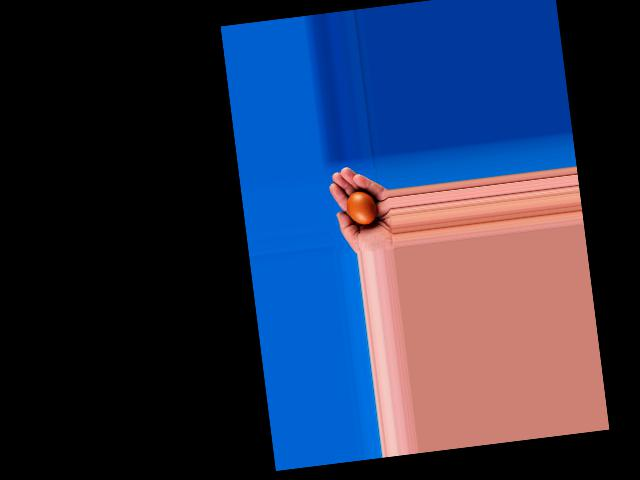egg: (345, 188, 377, 226)
